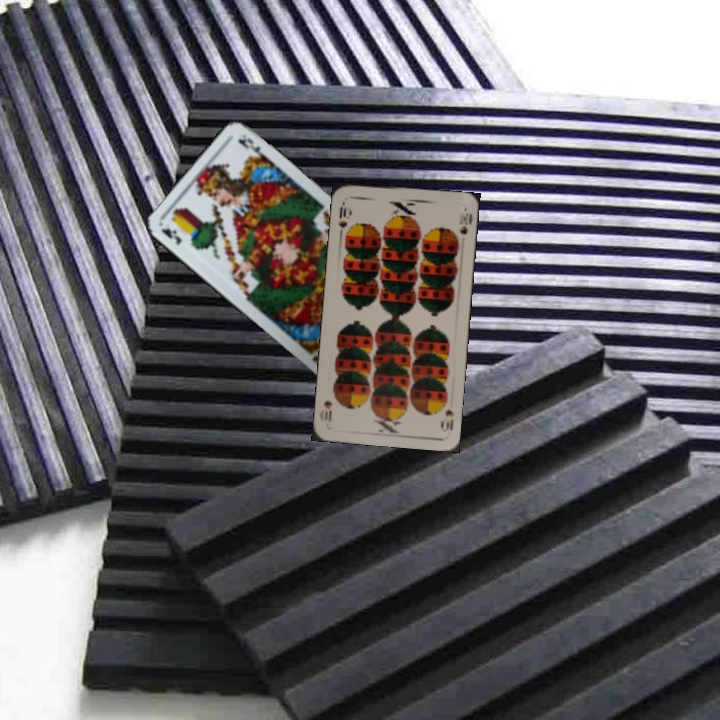EK: (158, 224, 184, 247)
S10: (437, 394, 456, 434), (335, 197, 349, 237)
